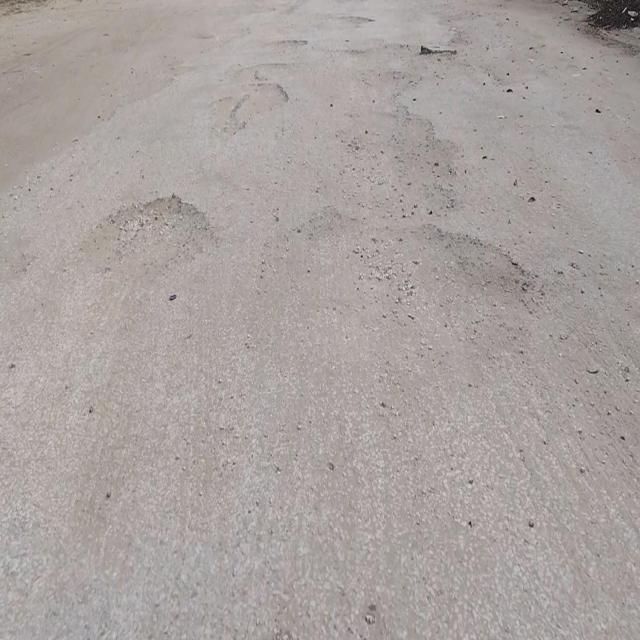Potholes: (85, 190, 220, 285), (227, 77, 289, 132)
